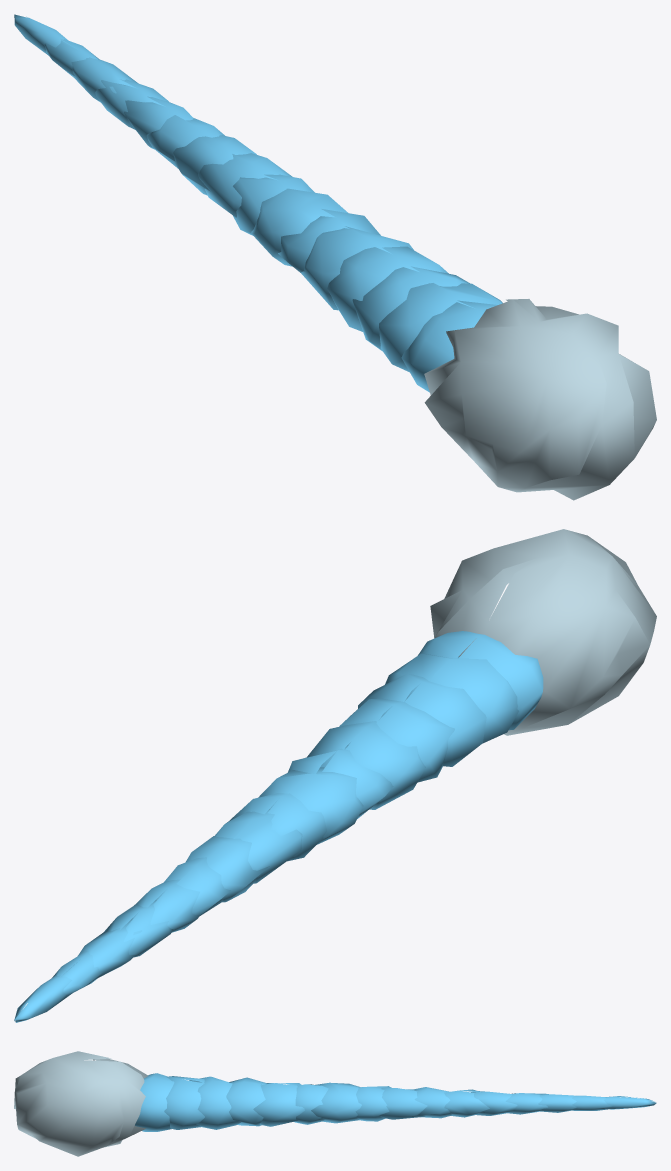
Rendered from sp_comet.glb.
The picture shows the model from 3 angles, top to bottom: view 1: azimuth 30°, elevation 25°; view 2: azimuth 150°, elevation 25°; view 3: azimuth 270°, elevation 25°; orthographic projection. The views are drawn at different scales.
Bounding box in the file's own units: 1.65 × 1.52 × 9.41.
